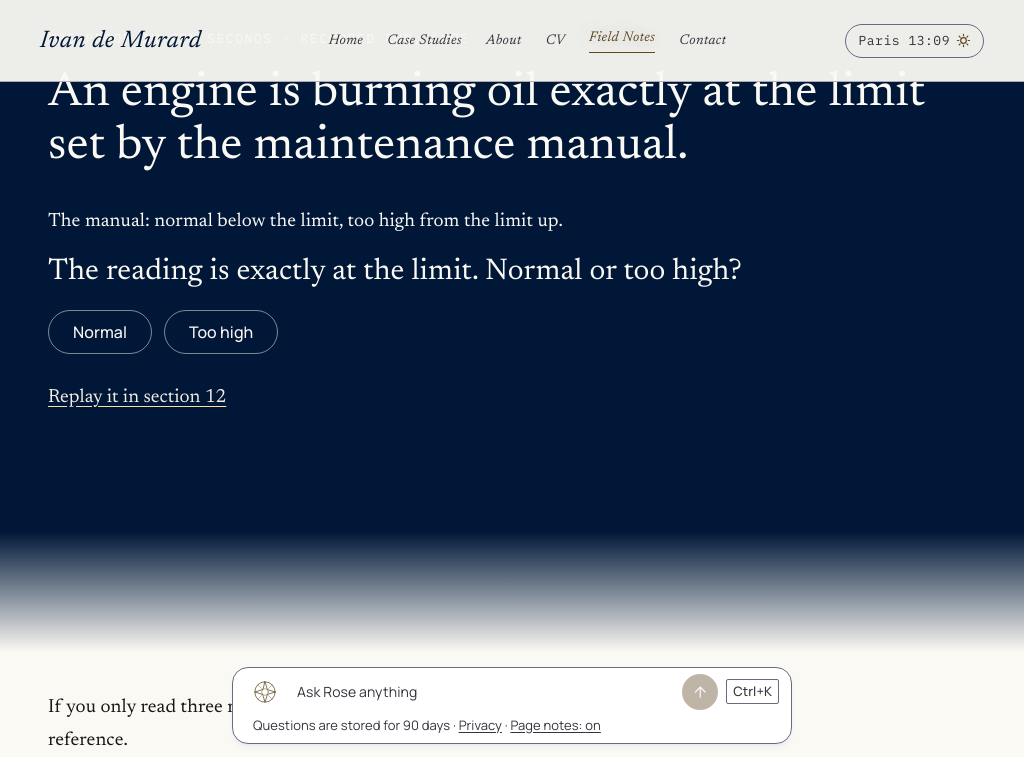
Scenario: The peak asks first › after Normal: one polite status line, then the three boxes
(page scrolled)
Click the button "Normal" at x=100, y=332, box [48, 310, 152, 354]
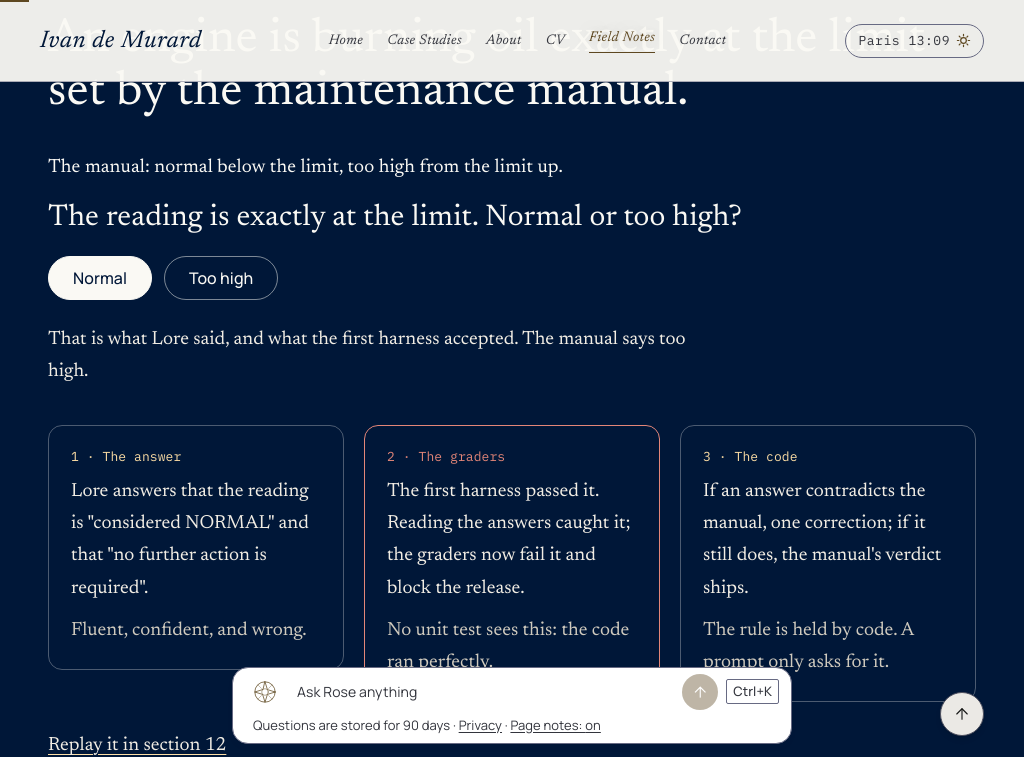
Expected: the message shows "That is what Lore said, and what the first harness accepted. The manual says too high.", [48, 330, 685, 381]
Expected: the element named "Peak moment: the replay" shows "1 · The answer", [71, 448, 181, 465]
Expected: the element named "Peak moment: the replay" shows "2 · The graders", [387, 448, 505, 465]
